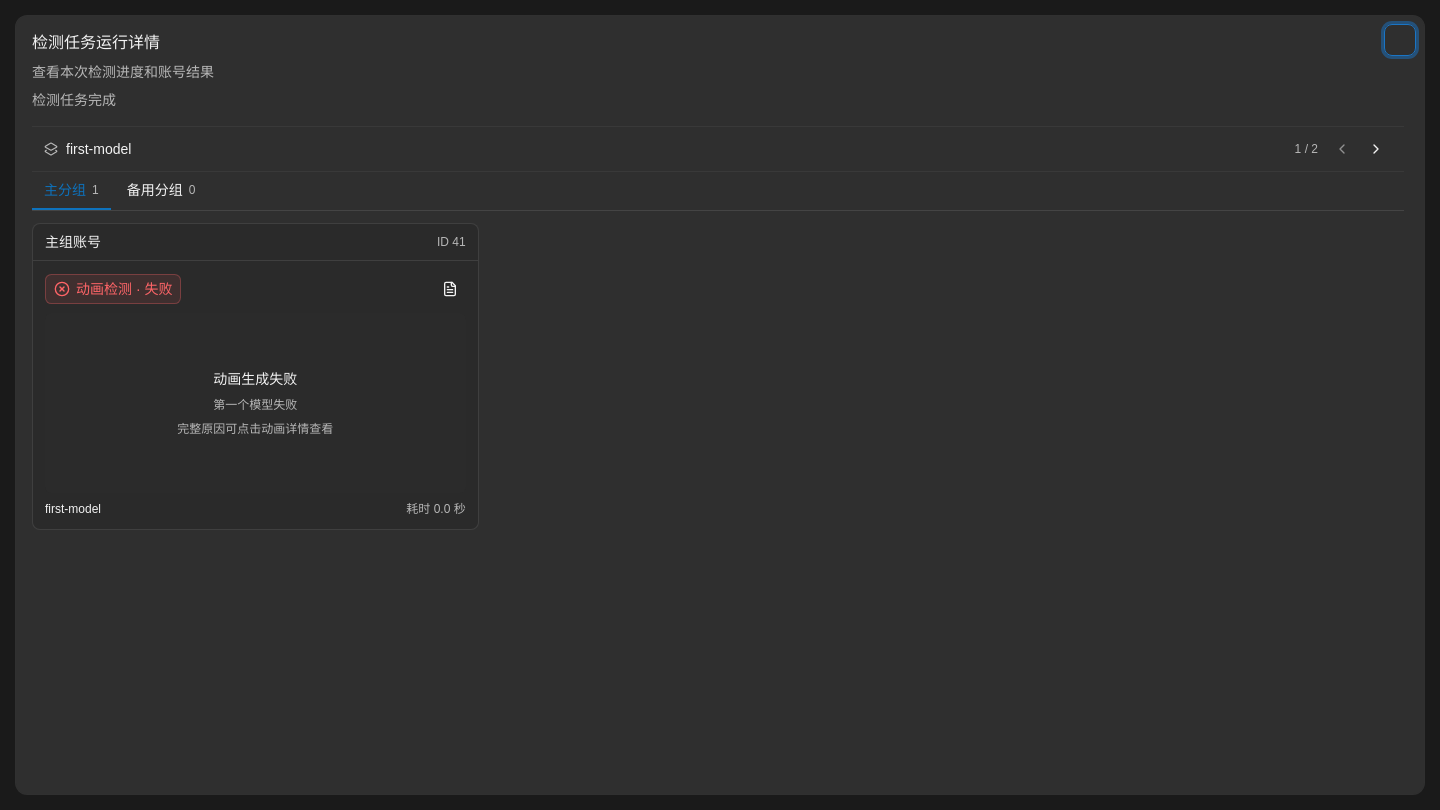
分组任务同账号多模型切换时展示对应结果并保留分组
The image size is (1440, 810).
Click the button named "下一个模型结果" at (1376, 149), box [1360,133,1392,165]
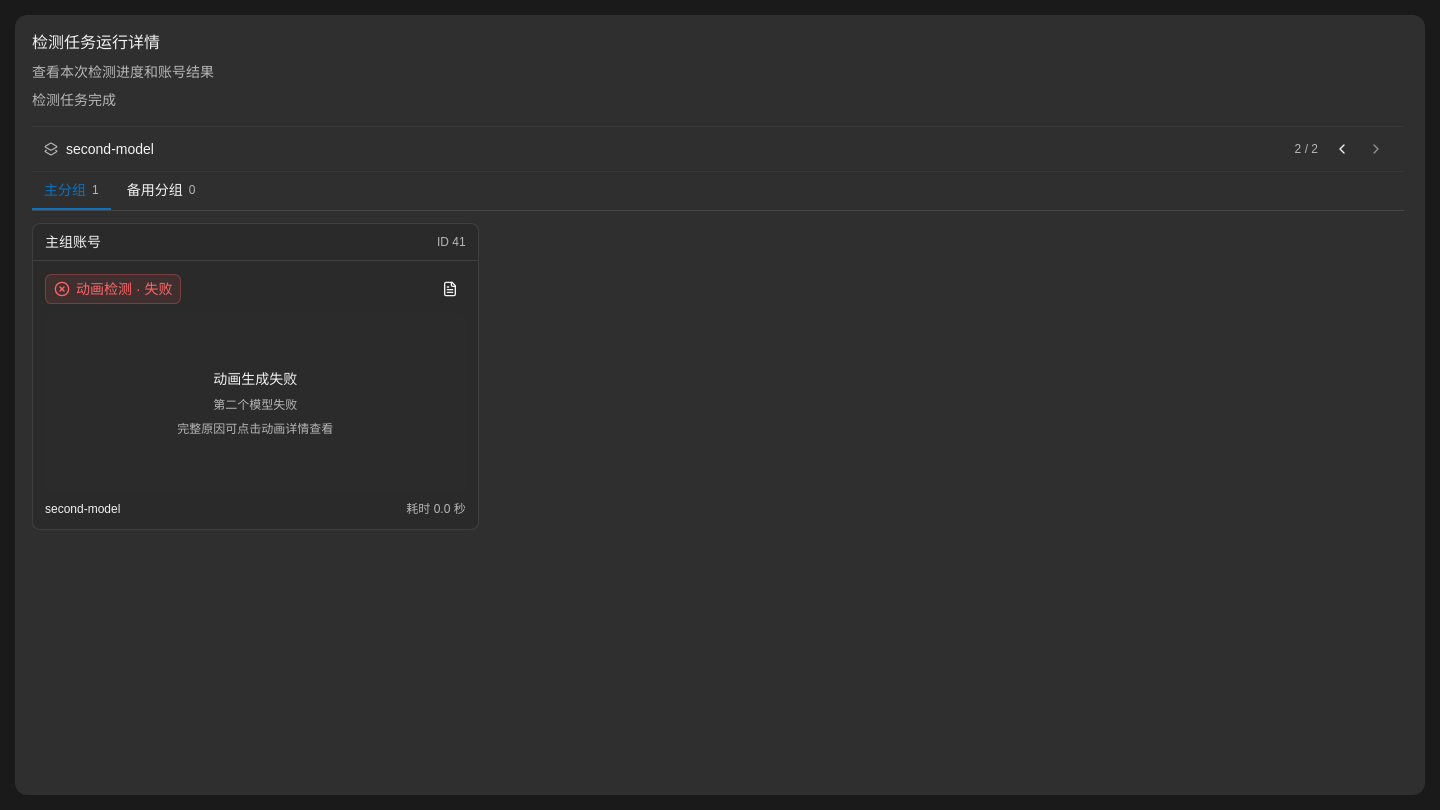
Expected: the element named "结果模型" shows "second-model", [66,141,154,157]
Expected: the text "第二个模型失败" is shown, [213,397,297,413]
Expected: the text "第一个模型失败" is gone
